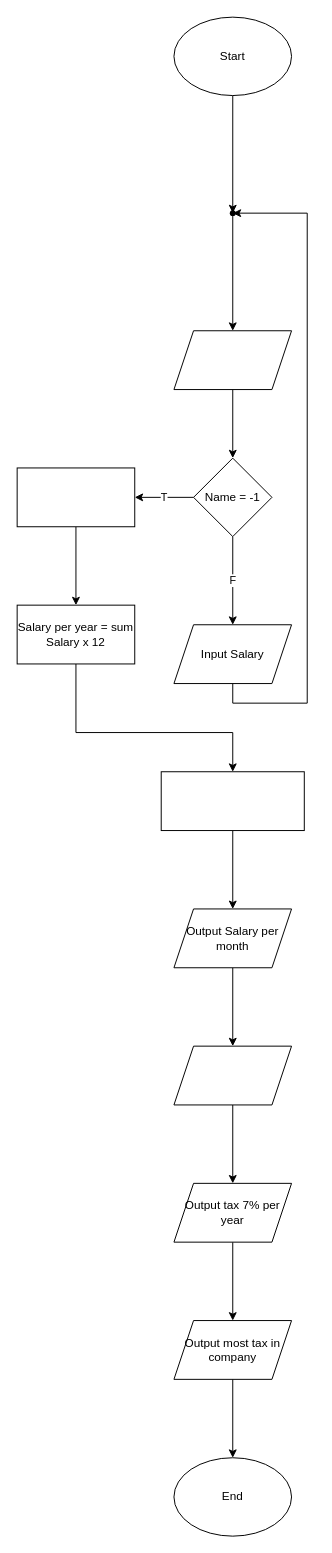
The diagram is 332 pixels wide and 1553 high, and some of its shapes have lost their labels. The box of each missing label's shape, as (x1, y1, x2, y2) in pixels:
(Salary per year / 100) x 7: (160, 771, 304, 831)
Find sum Salary: (16, 467, 135, 527)
Input Name: (173, 330, 292, 390)
Output saraly per year: (173, 1045, 292, 1105)
